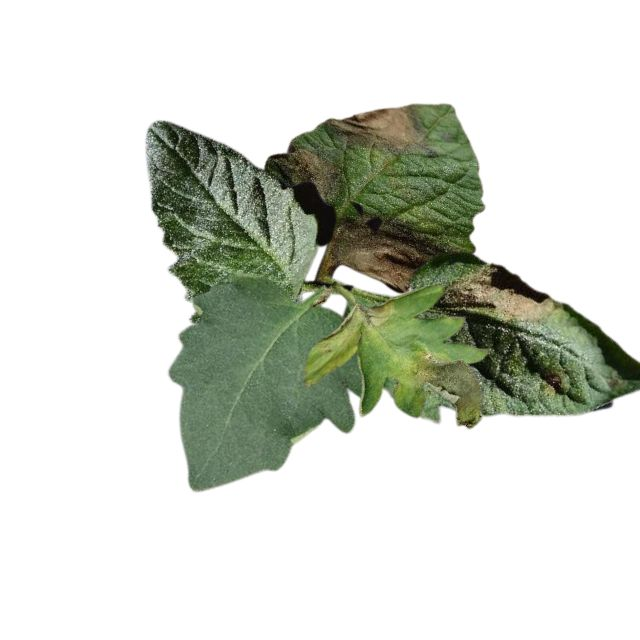Late_blight: (326, 214, 447, 293), (433, 258, 558, 323), (398, 348, 484, 428), (325, 105, 438, 158), (320, 300, 396, 368), (277, 146, 345, 201), (540, 372, 564, 395)
